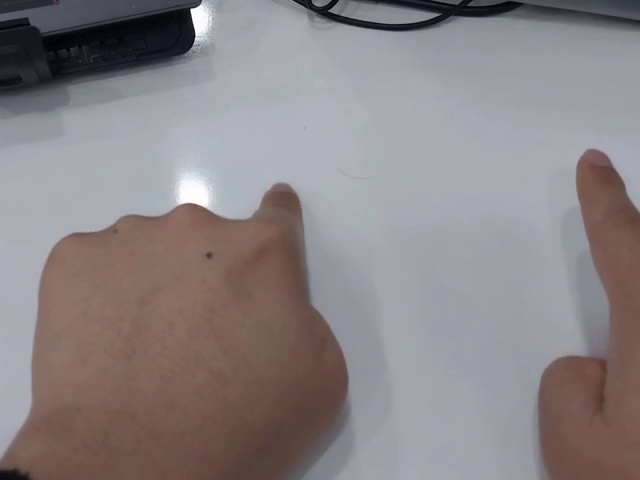fingers: (574, 146, 627, 190), (261, 179, 303, 208)
